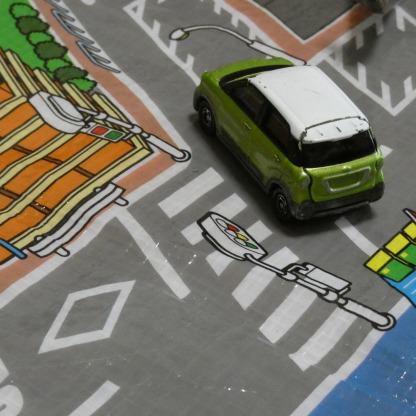car: (188, 51, 386, 224)
